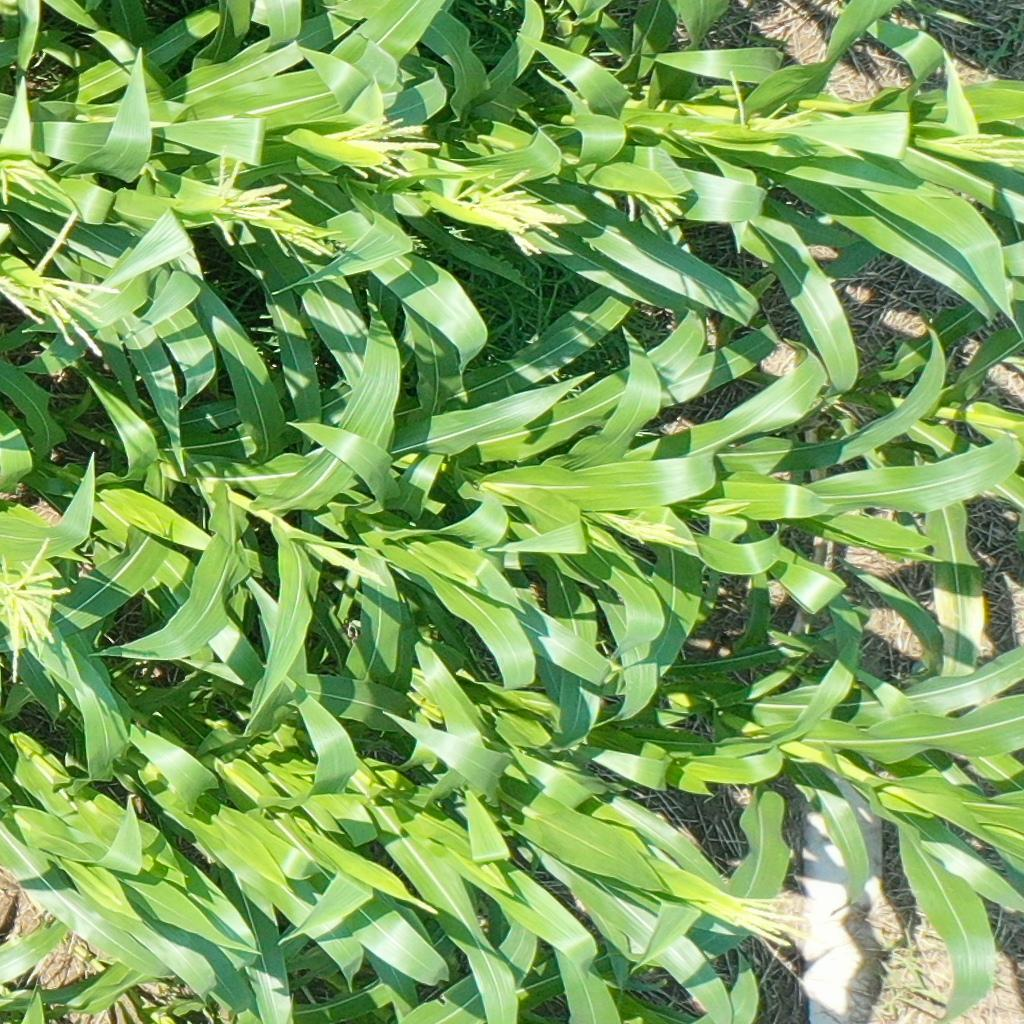Tassel: (1, 212, 119, 359), (447, 169, 570, 261), (196, 138, 296, 245), (1, 536, 66, 686), (318, 109, 443, 186), (696, 882, 807, 952), (722, 68, 820, 145), (601, 502, 694, 555), (934, 123, 1024, 172), (269, 220, 344, 271), (616, 185, 690, 233), (1, 150, 52, 209), (318, 549, 388, 590)
